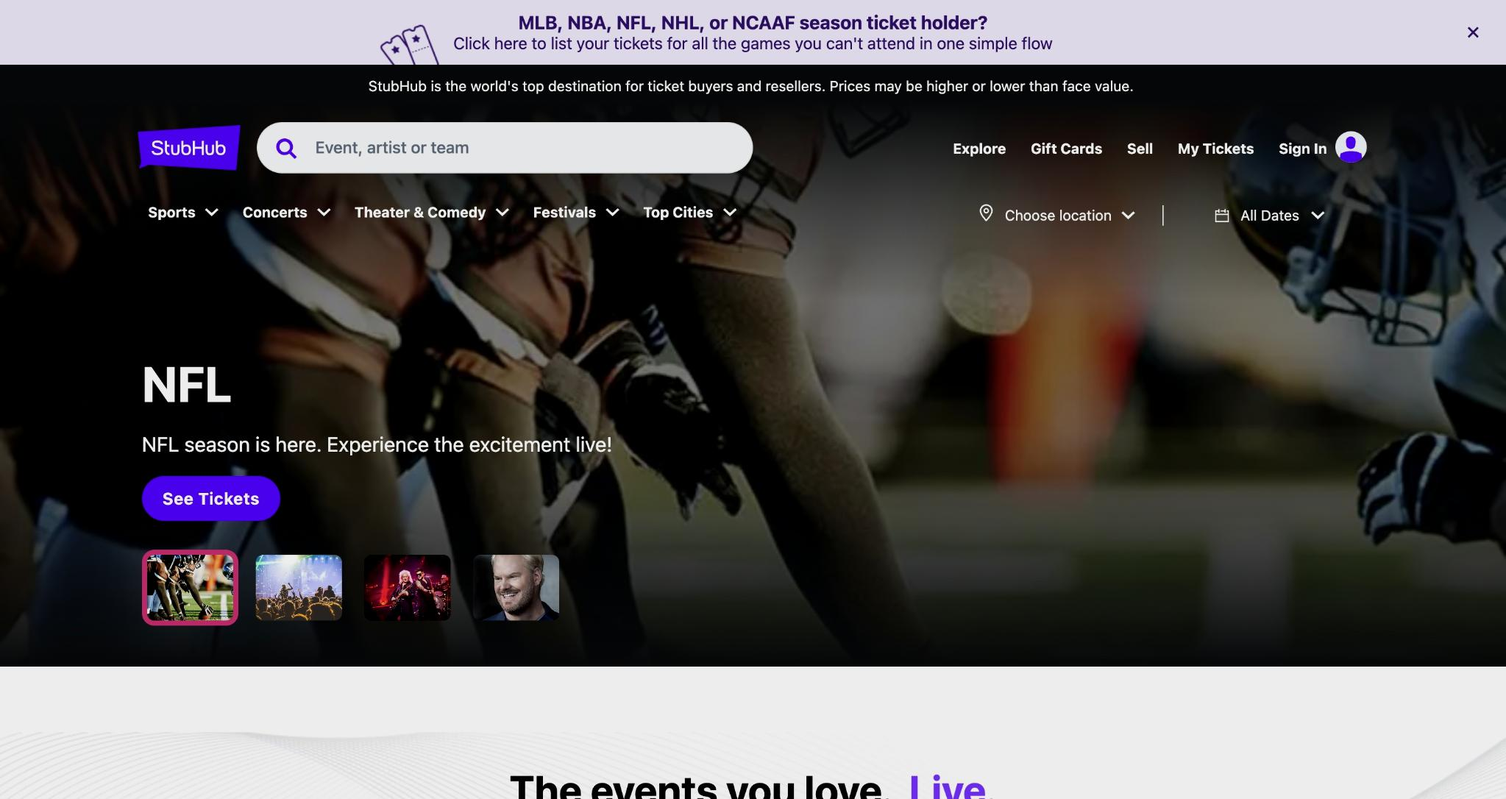webelement: (0, 102, 1505, 768), (142, 354, 1364, 411), (142, 475, 1364, 520), (452, 11, 1051, 79), (299, 122, 749, 171), (142, 428, 875, 458), (509, 764, 892, 799), (367, 77, 1132, 94), (958, 189, 1155, 239), (344, 189, 493, 234), (141, 475, 280, 520), (147, 554, 233, 619), (256, 554, 342, 619), (364, 554, 450, 619), (473, 554, 559, 619), (138, 121, 240, 172), (632, 189, 720, 234), (232, 189, 315, 234), (522, 189, 603, 234), (909, 764, 995, 799), (137, 189, 203, 234), (138, 149, 240, 178), (354, 203, 485, 220), (1328, 130, 1368, 163), (1178, 139, 1254, 156), (1030, 139, 1102, 156), (642, 203, 711, 220), (242, 203, 306, 220), (532, 203, 595, 220), (952, 139, 1005, 156), (1278, 139, 1326, 156), (148, 203, 195, 220), (274, 136, 298, 160), (1126, 139, 1153, 156), (976, 203, 996, 223), (1465, 24, 1481, 40), (203, 203, 219, 219), (315, 203, 331, 219), (494, 203, 510, 219), (603, 203, 619, 219), (721, 203, 737, 219), (1119, 206, 1135, 222), (1213, 206, 1229, 222), (1309, 206, 1325, 222)
